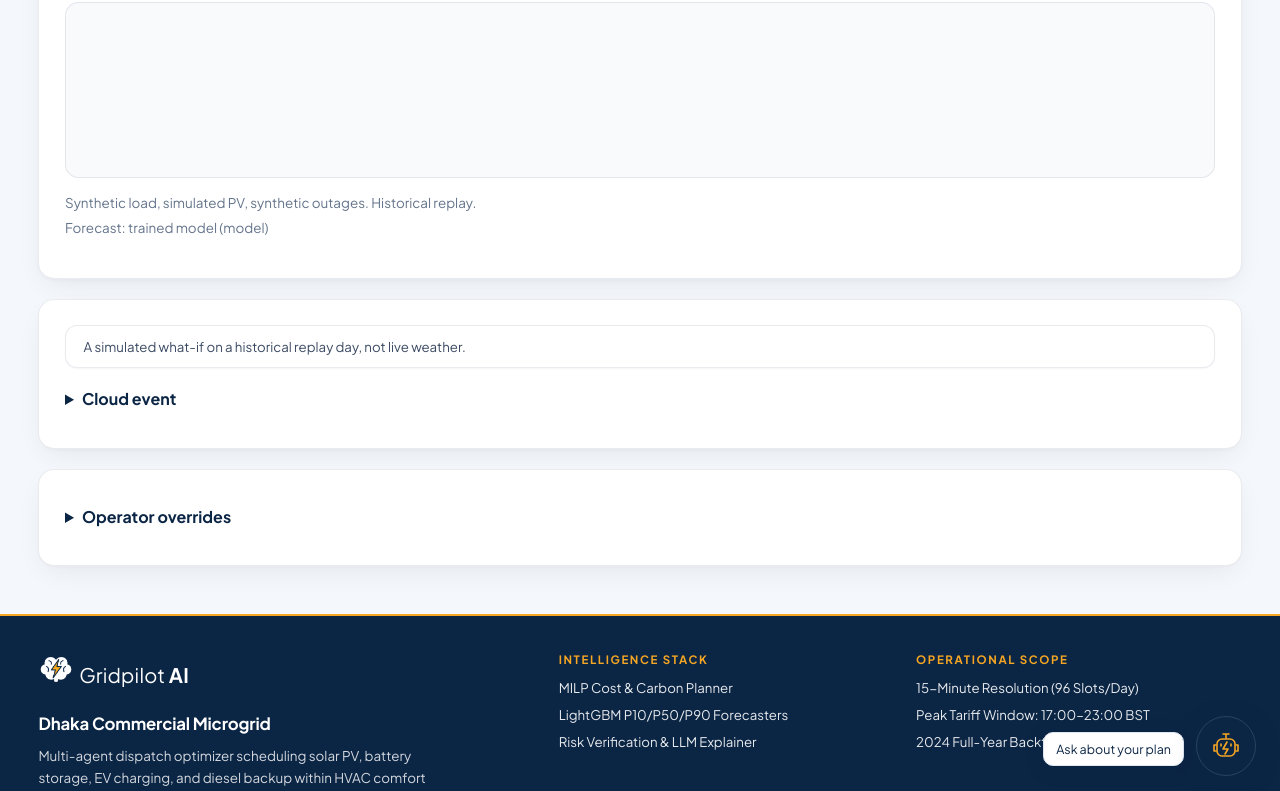
Test: cloud event › sends the selected settings and displays API comparison, shaded chart and timing
The width and height of the screenshot is (1280, 791).
(page scrolled)
Click the heading "Cloud event": click(129, 399) [82,388,176,409]
(page scrolled)
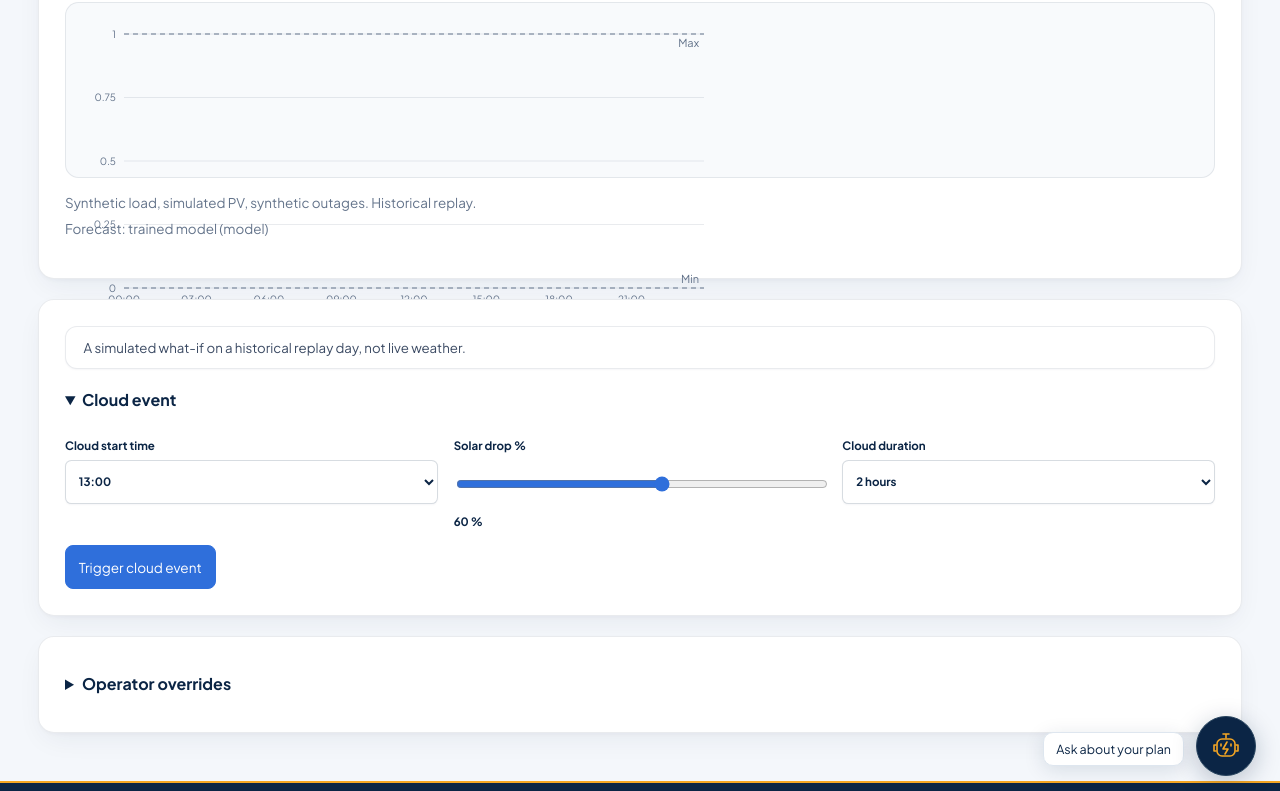
Click the button "Trigger cloud event": click(140, 567) [65,545,216,589]
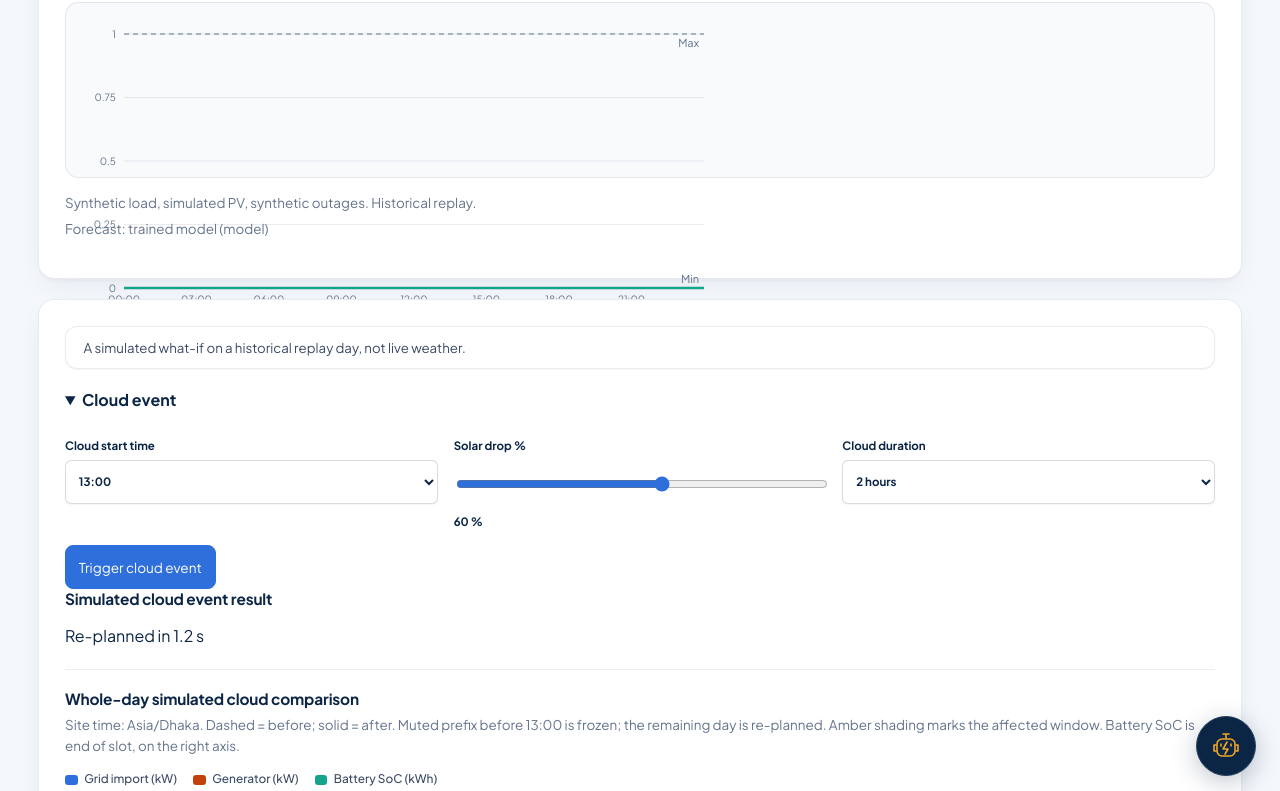
Expected: the text "simulated what-if on a historical replay day" is shown, [84,339,466,356]
Now the text "Re-planned in 1.2 s" is shown, box [65,625,204,646]
